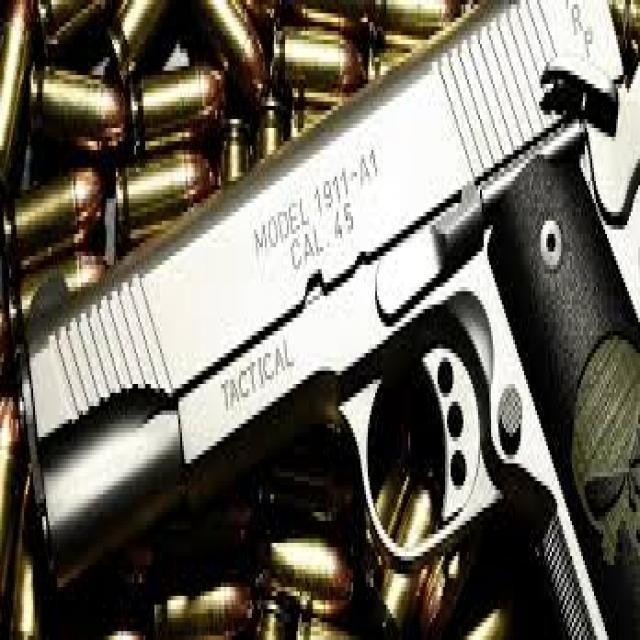semi automatic: (1, 0, 640, 638)
